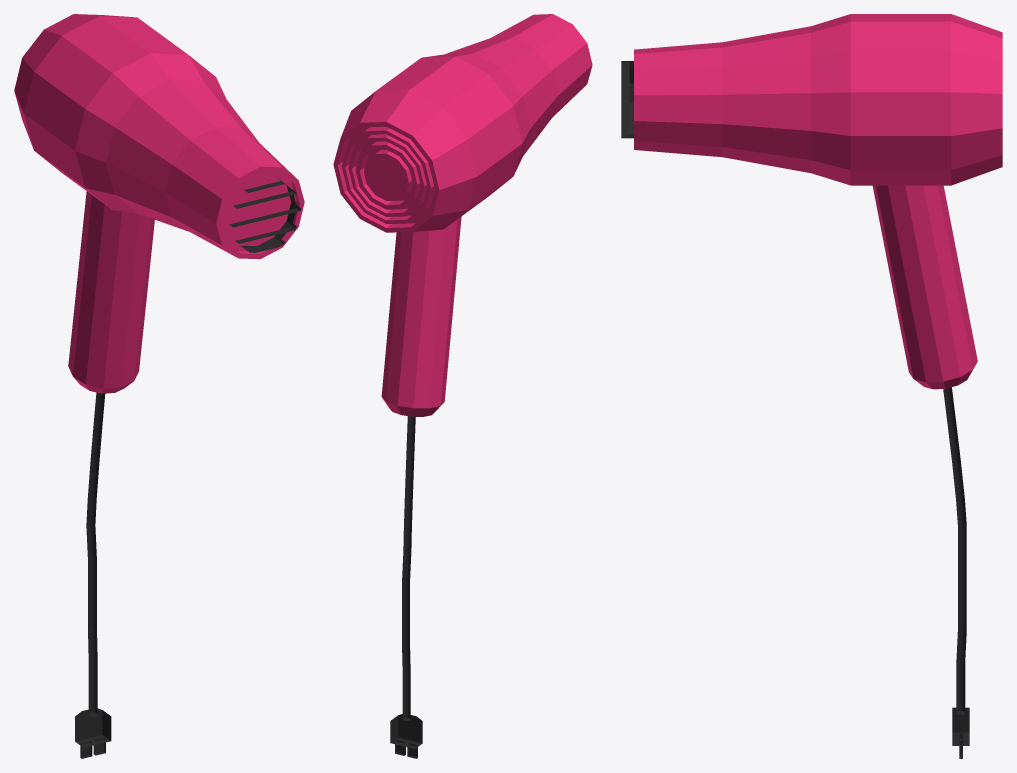
The model's file is hairdryer.glb.
The picture shows the model from 3 angles, left to right: view 1: azimuth 30°, elevation 25°; view 2: azimuth 150°, elevation 25°; view 3: azimuth 270°, elevation 25°; orthographic projection. The views are drawn at different scales.
Visible parts, largest first — view 1: hairdryer head, hairdryer handle, hairdryer wire, hairdryer winder, hairdryer plug; view 2: hairdryer head, hairdryer handle, hairdryer wire, hairdryer plug; view 3: hairdryer head, hairdryer handle, hairdryer wire, hairdryer winder, hairdryer plug.
Boxes of the visible parts, left/top/right/bottom form: hairdryer head: left=14, top=14, right=304, bottom=259; hairdryer handle: left=68, top=191, right=154, bottom=393; hairdryer wire: left=86, top=392, right=105, bottom=716; hairdryer winder: left=229, top=177, right=300, bottom=252; hairdryer plug: left=75, top=708, right=111, bottom=758; hairdryer head: left=333, top=14, right=592, bottom=232; hairdryer handle: left=381, top=216, right=461, bottom=416; hairdryer wire: left=402, top=416, right=415, bottom=720; hairdryer plug: left=390, top=714, right=422, bottom=758; hairdryer head: left=634, top=14, right=1002, bottom=185; hairdryer handle: left=872, top=185, right=977, bottom=389; hairdryer wire: left=943, top=387, right=966, bottom=714; hairdryer winder: left=621, top=61, right=633, bottom=138; hairdryer plug: left=952, top=707, right=969, bottom=758.
Bounding box in the file's own units: 0.1521 × 0.7138 × 0.3368.
